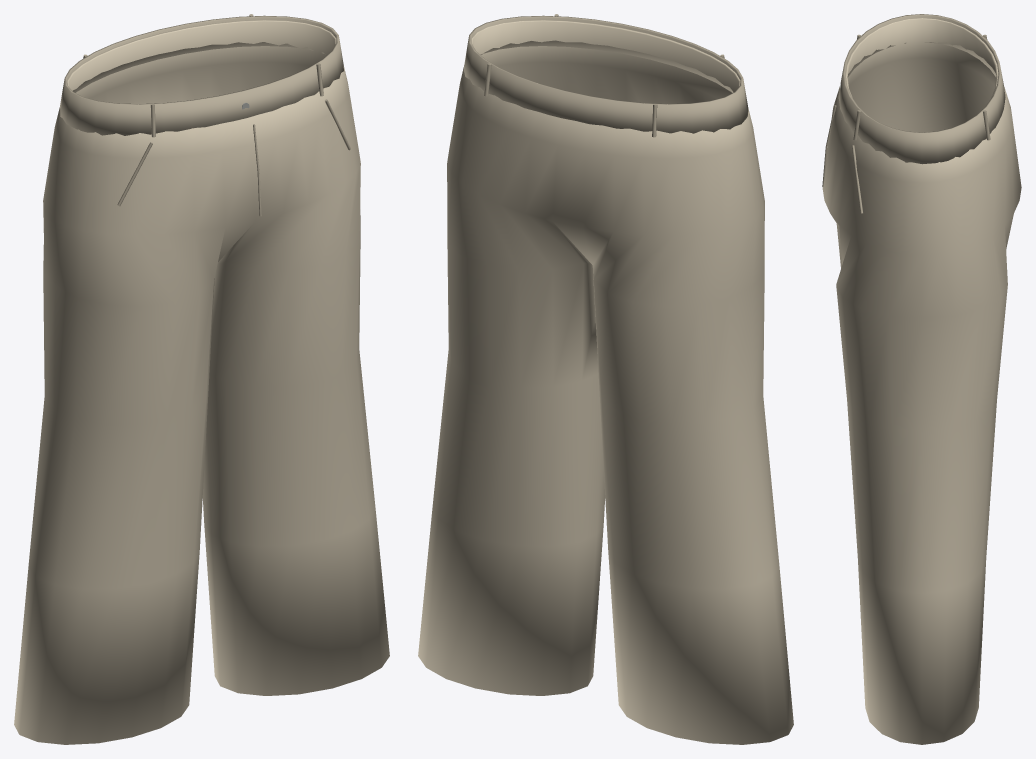
Rendered from pants_wide_leg.glb.
3 renders of one model, left to right at view 1: azimuth 30°, elevation 25°; view 2: azimuth 150°, elevation 25°; view 3: azimuth 270°, elevation 25°, orthographic. The views are drawn at different scales.
Visible parts, largest first — view 1: Wide_Leg_Pants_Connected_Hips_And_Legs, Wide_Leg_Pants_Waistband; view 2: Wide_Leg_Pants_Connected_Hips_And_Legs, Wide_Leg_Pants_Waistband; view 3: Wide_Leg_Pants_Connected_Hips_And_Legs, Wide_Leg_Pants_Waistband.
Part boxes in pixels (left/top/right/bottom): Wide_Leg_Pants_Connected_Hips_And_Legs: left=14, top=20, right=389, bottom=744; Wide_Leg_Pants_Waistband: left=60, top=15, right=343, bottom=135; Wide_Leg_Pants_Connected_Hips_And_Legs: left=418, top=20, right=793, bottom=744; Wide_Leg_Pants_Waistband: left=463, top=15, right=748, bottom=133; Wide_Leg_Pants_Connected_Hips_And_Legs: left=822, top=18, right=1021, bottom=744; Wide_Leg_Pants_Waistband: left=838, top=14, right=1005, bottom=164.
Size of the model in its own units: 0.5821 by 0.9616 by 0.2948.
